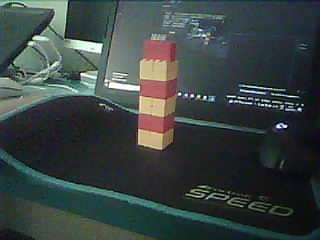lego: (137, 39, 180, 150)
